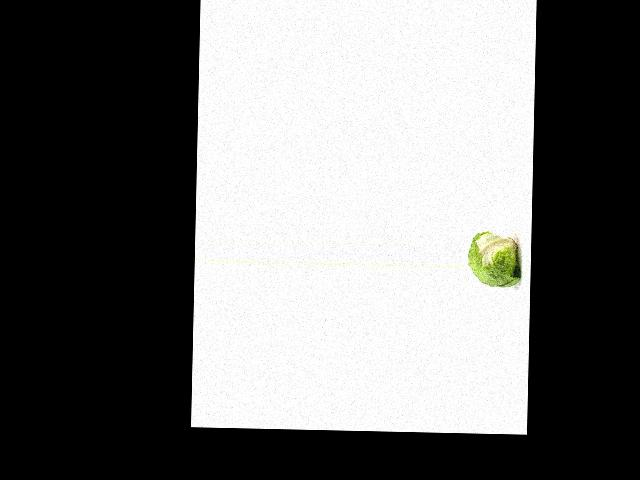lettuce: (467, 229, 524, 289)
